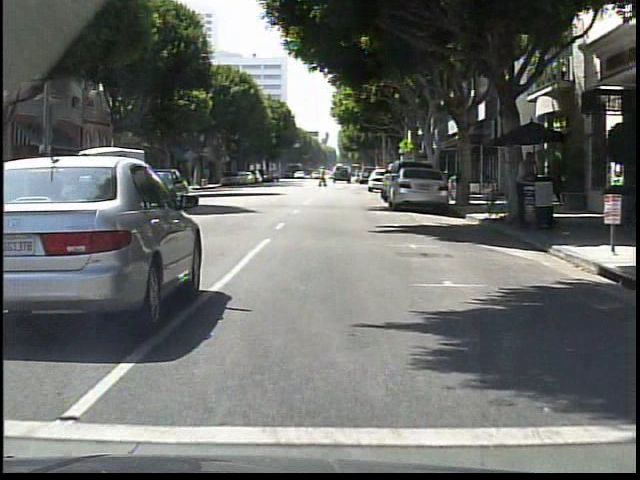person: (513, 150, 542, 227), (317, 168, 328, 188)
